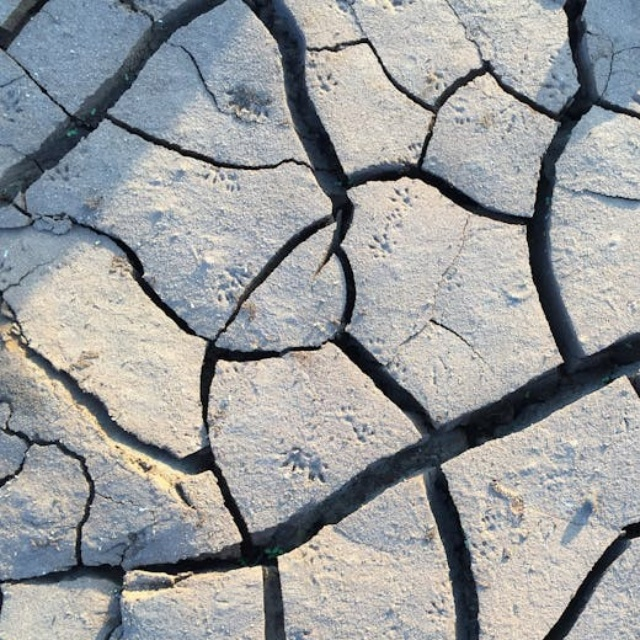深大裂缝: (132, 256, 640, 573), (380, 564, 549, 640)
细微裂纹: (87, 99, 301, 204)
